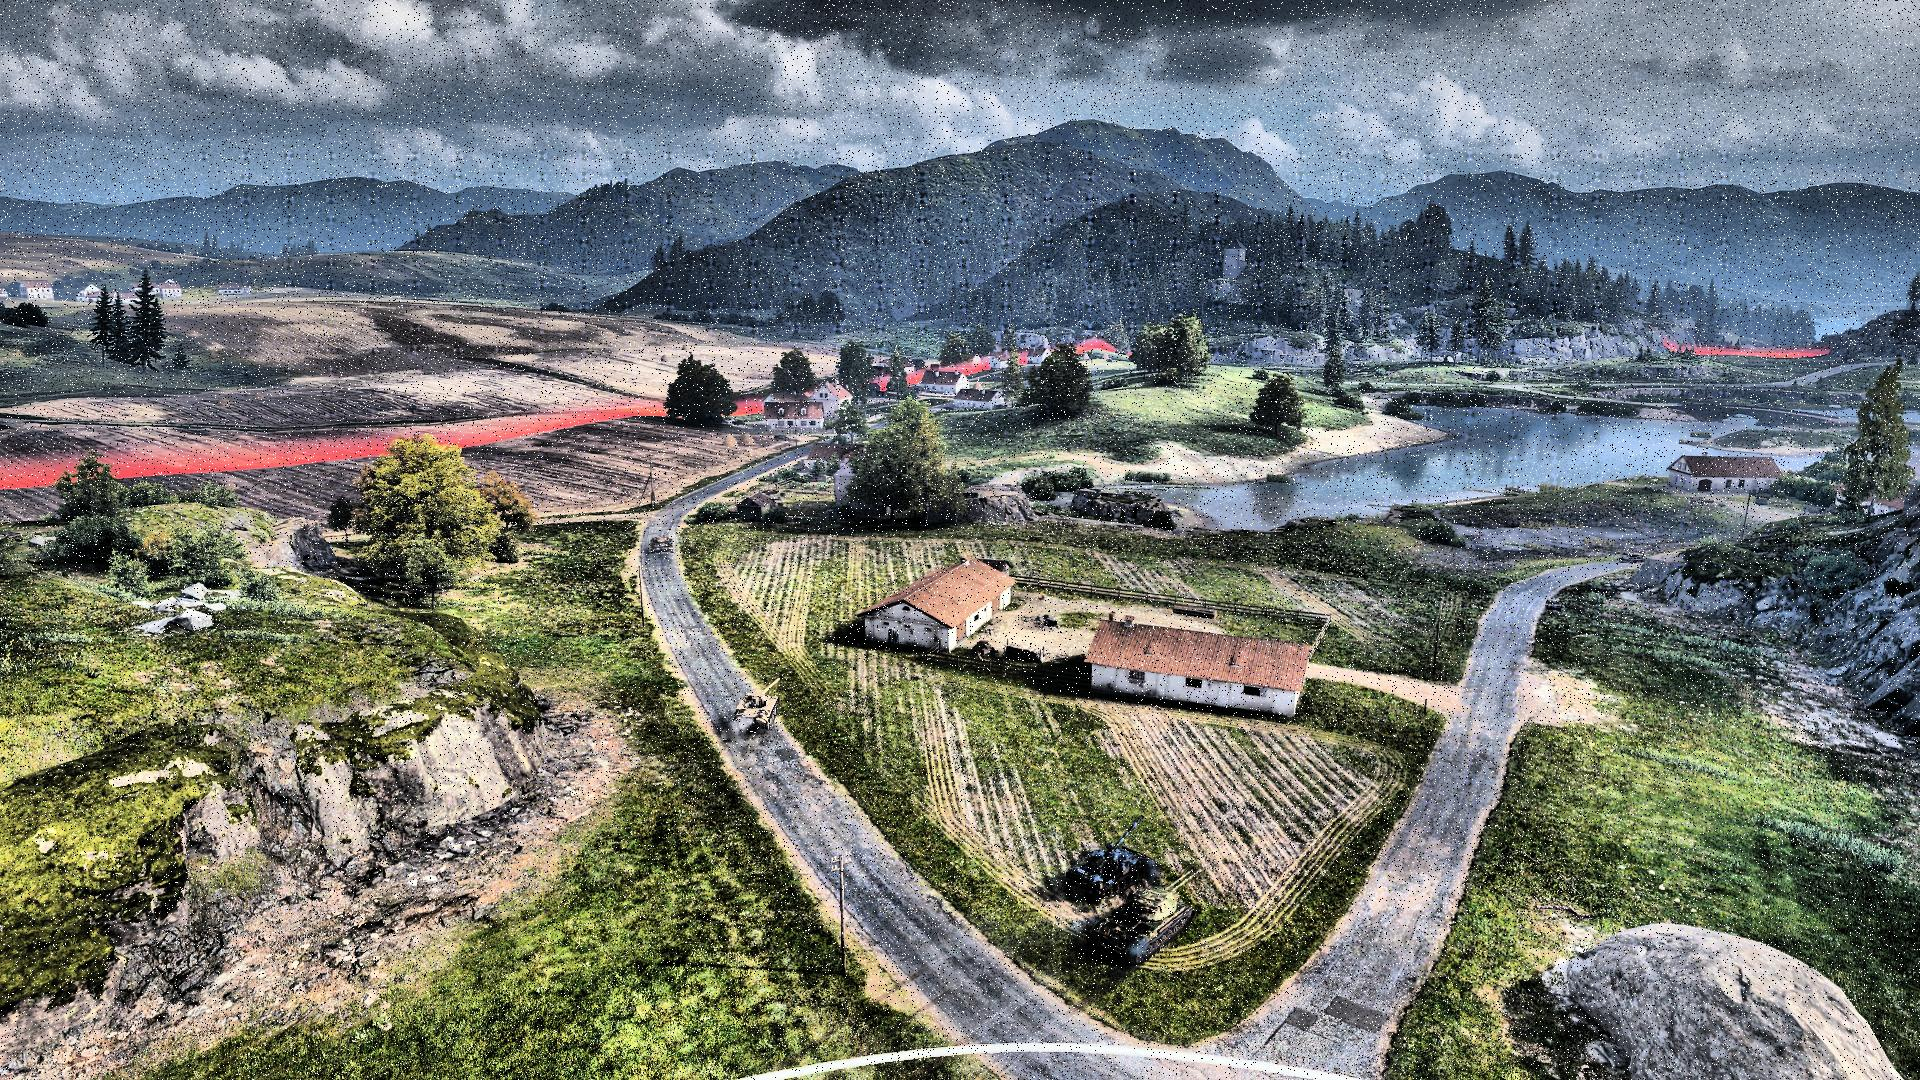military-vehicle: (1087, 864, 1203, 967), (1067, 815, 1147, 897), (731, 675, 783, 733), (650, 526, 675, 553)
